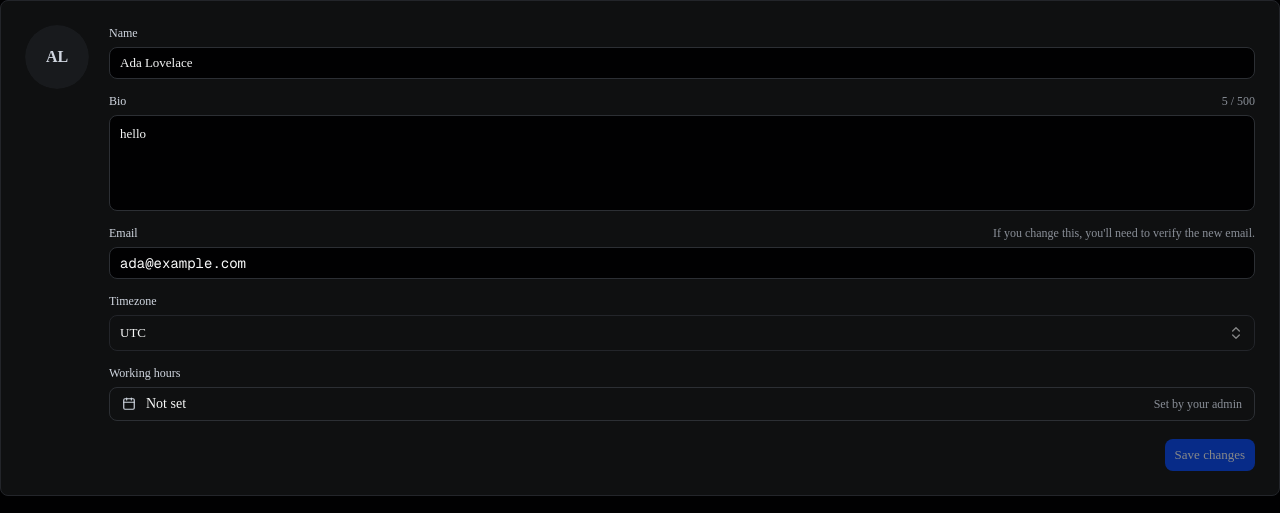
Test: ProfileIdentityCard bio › shows the character counter and caps at 500
This screenshot has width=1280, height=513.
Check: the text "5 / 500" is shown, box [1222,93,1255,109]
Replace the text in the text box named "bio" with "abc" at (682, 163), box [109,115,1255,211]
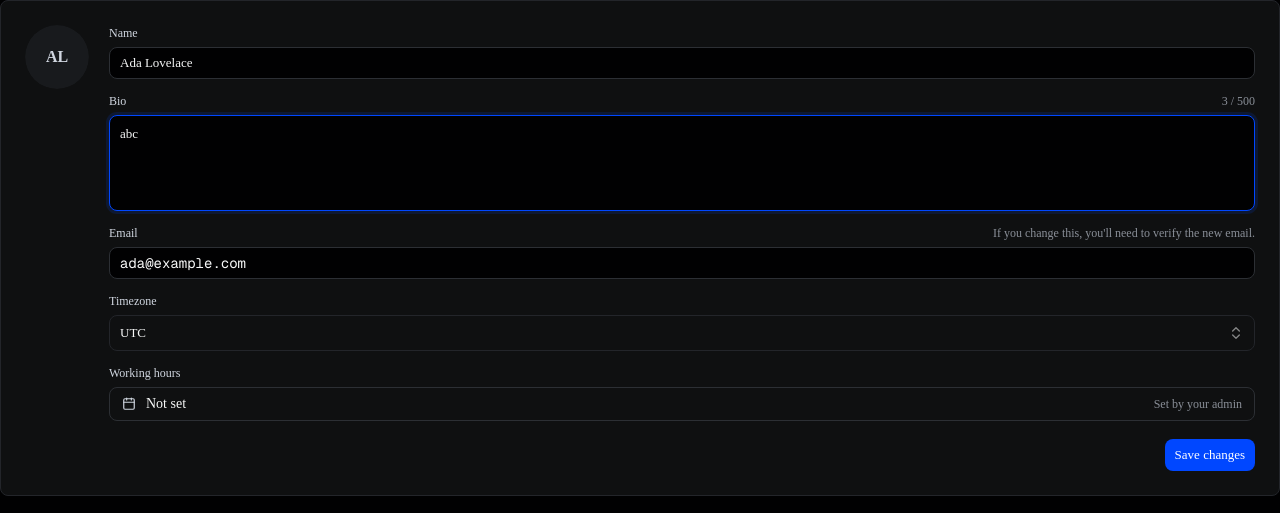
Check: the text "3 / 500" is shown, box [1222,93,1255,109]
